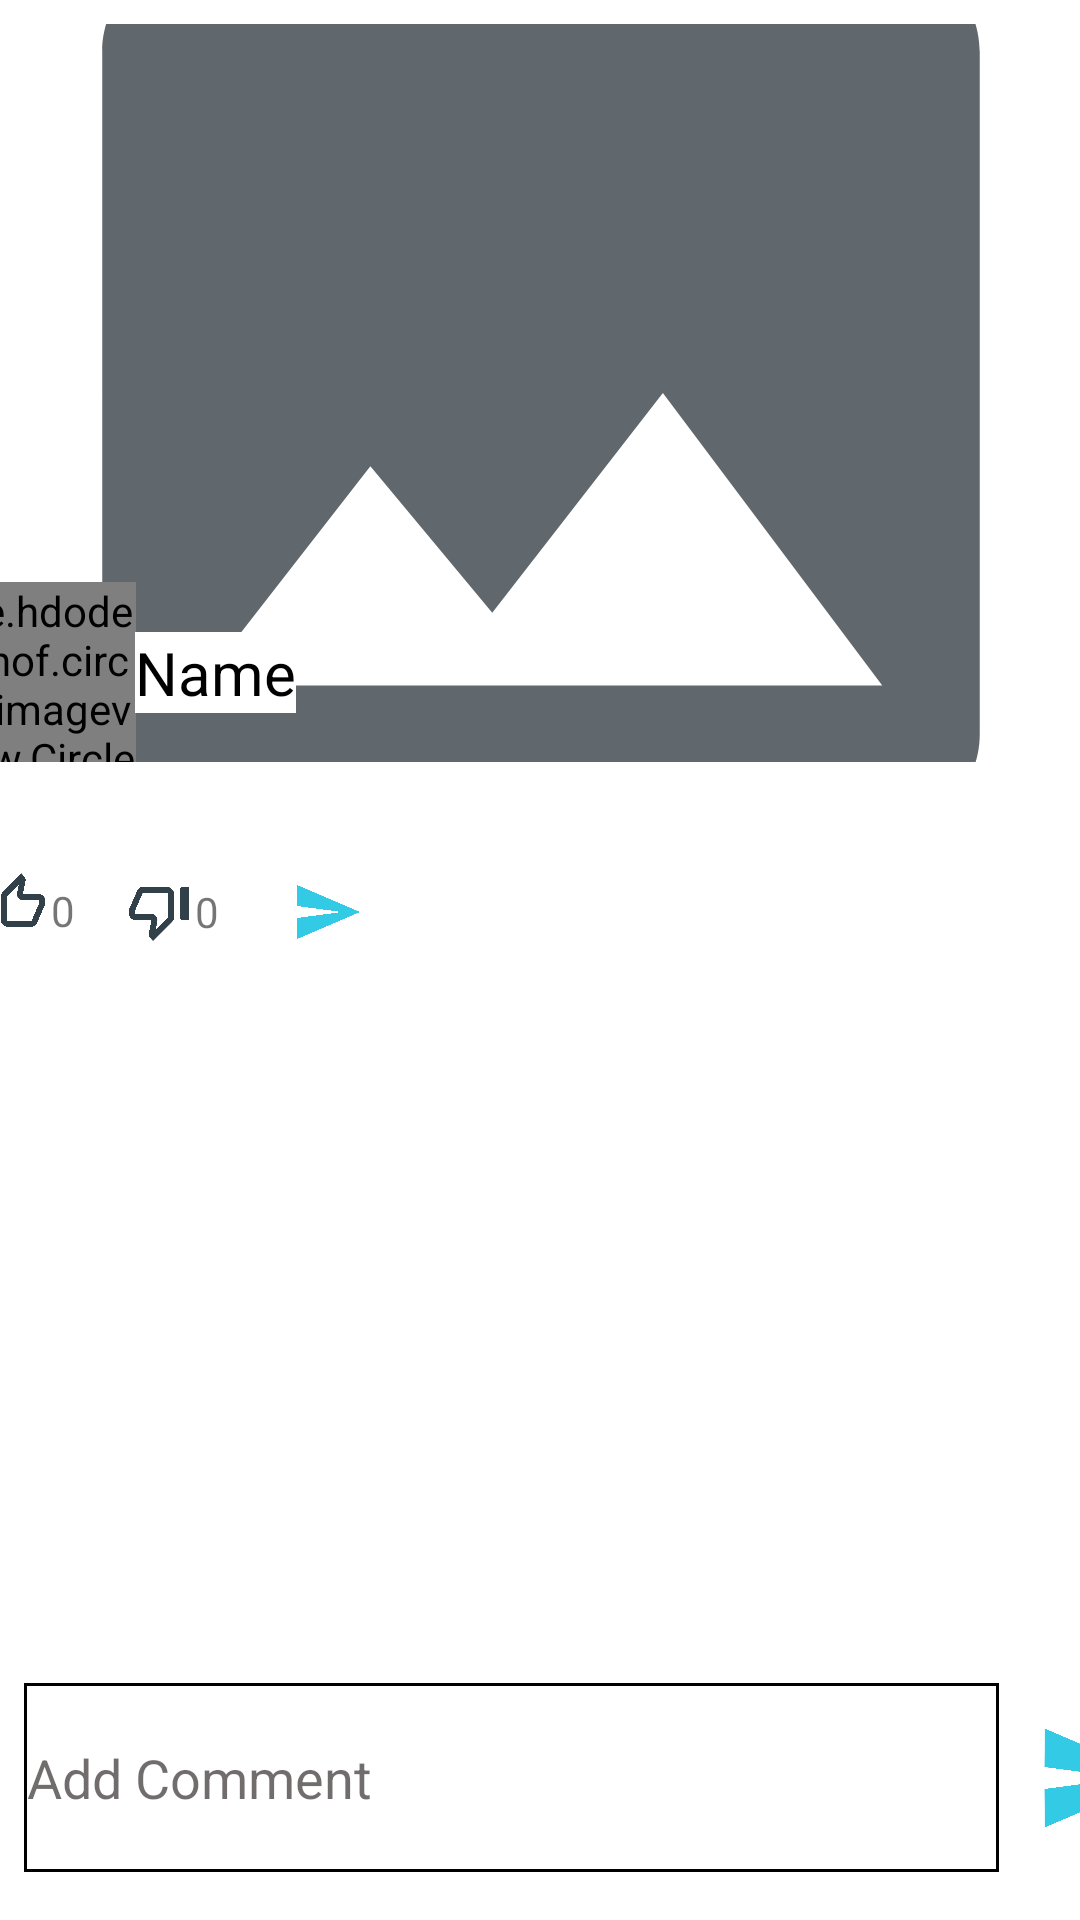

Icon bounding boxes for this 1080x1920 phone screenshot, format (x1, y1, x2, y2):
dislike: (129, 887, 189, 941)
